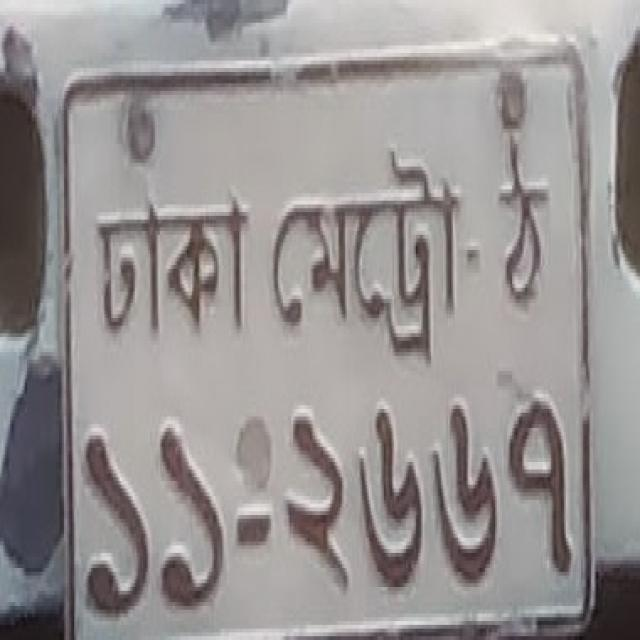numberplate: (55, 36, 597, 637)
